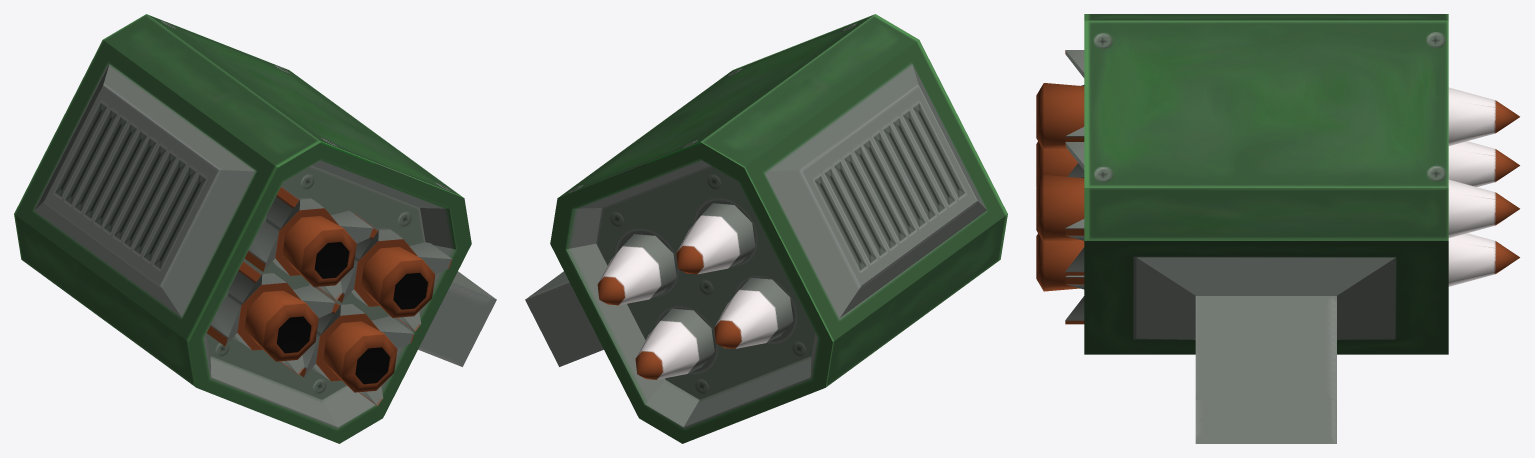
The model's file is Rocket Pod.fbx.
3 views of the same model, side by side, from view 1: azimuth 30°, elevation 25°; view 2: azimuth 150°, elevation 25°; view 3: azimuth 270°, elevation 25° (orthographic). The views are drawn at different scales.
Visible parts, largest first — view 1: Rocket_Pod; view 2: Rocket_Pod; view 3: Rocket_Pod.
Part boxes in pixels (<box>): Rocket_Pod: <box>14,14,496,443</box>; Rocket_Pod: <box>525,14,1007,443</box>; Rocket_Pod: <box>1036,14,1519,443</box>.
Bounding box in the file's own units: 2.12 × 1.75 × 2.36.
